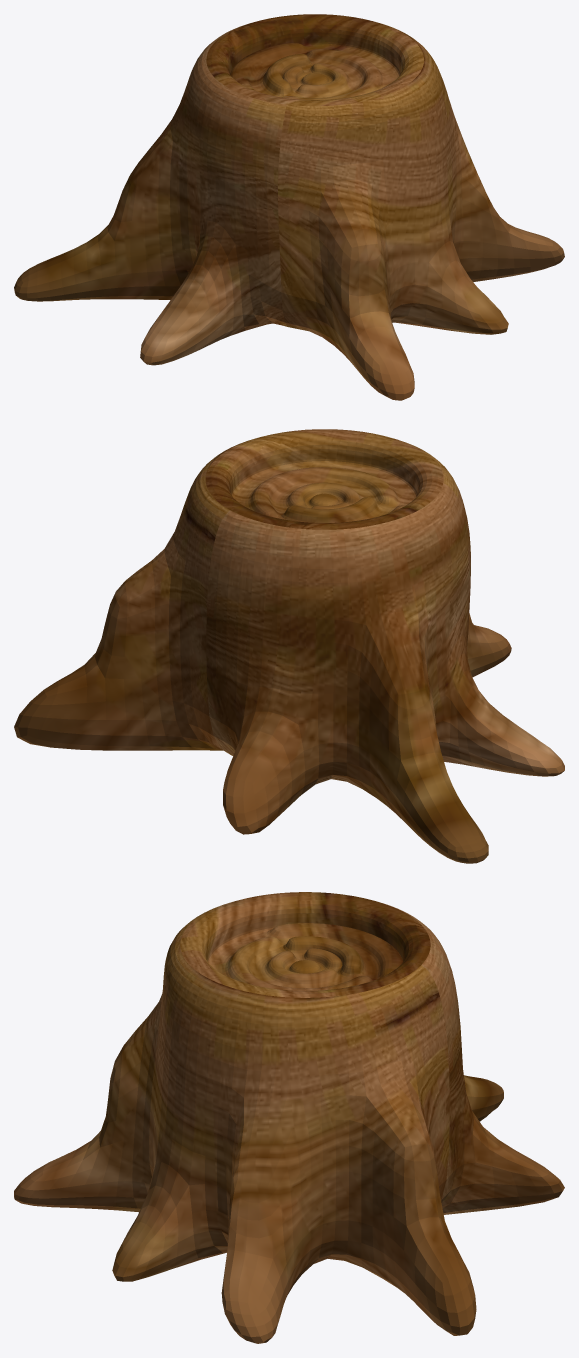
File: Batang Pohon.fbx
3 renders of one model, top to bottom at view 1: azimuth 30°, elevation 25°; view 2: azimuth 150°, elevation 25°; view 3: azimuth 270°, elevation 25°, orthographic. The views are drawn at different scales.
Parts seen in each view (by area): view 1: Cylinder; view 2: Cylinder; view 3: Cylinder.
Boxes of the visible parts, left/top/right/bottom form: Cylinder: left=14, top=14, right=564, bottom=400; Cylinder: left=14, top=429, right=564, bottom=863; Cylinder: left=14, top=892, right=564, bottom=1343.
Bounding box in the file's own units: 134 × 69.87 × 124.
Materials: 1 (1 with a texture image).
